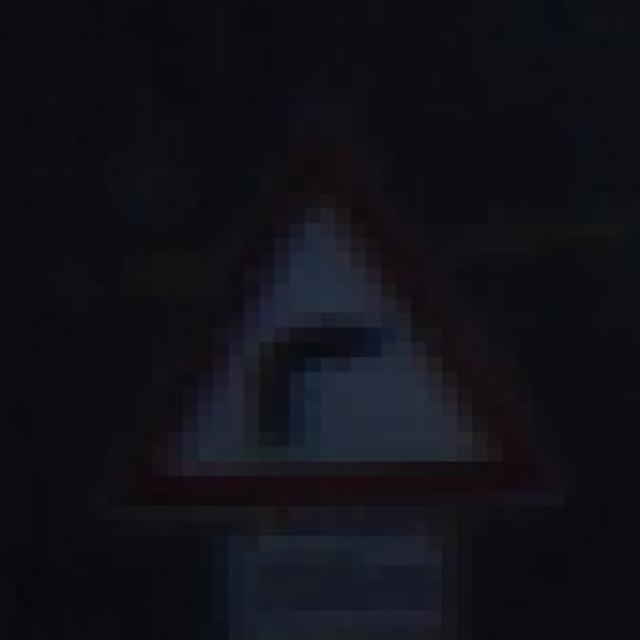Dangerous Rright Curve Ahead: (95, 119, 552, 536)
